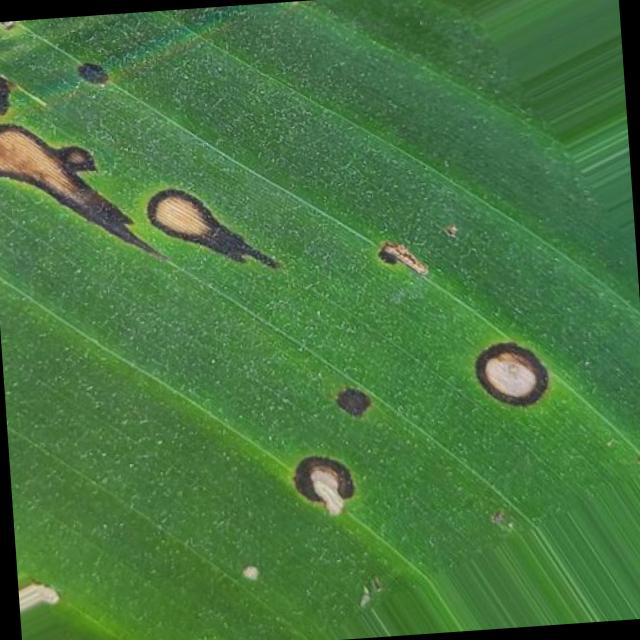Banana_Black_Sigatoka: (0, 44, 325, 336), (339, 219, 610, 467), (261, 343, 421, 559)
